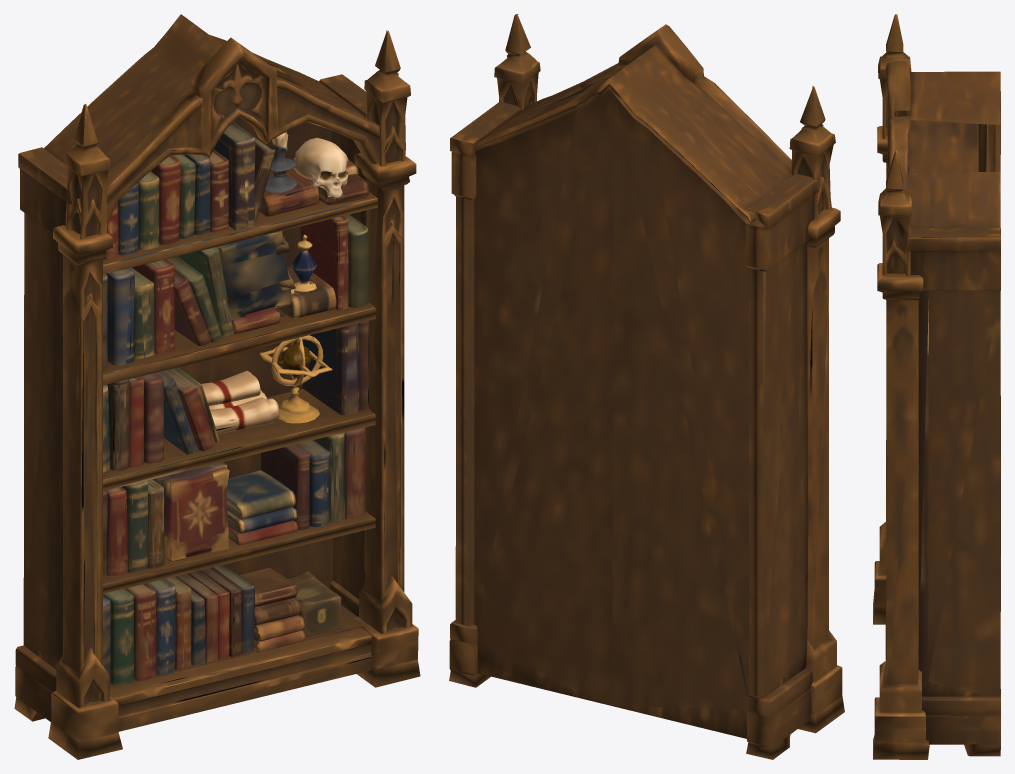
Rendered from estanteria.glb.
3 renders of one model, left to right at view 1: azimuth 30°, elevation 25°; view 2: azimuth 150°, elevation 25°; view 3: azimuth 270°, elevation 25°, orthographic. The views are drawn at different scales.
Parts seen in each view (by area): view 1: geometry_0; view 2: geometry_0; view 3: geometry_0.
Boxes of the visible parts, x1,y1,x2,y2 form: geometry_0: [14, 14, 420, 759]; geometry_0: [449, 14, 844, 759]; geometry_0: [873, 14, 1000, 759].
Size of the model in its own units: 0.5112 by 0.9517 by 0.1772.
Materials: 1 (1 with a texture image).
